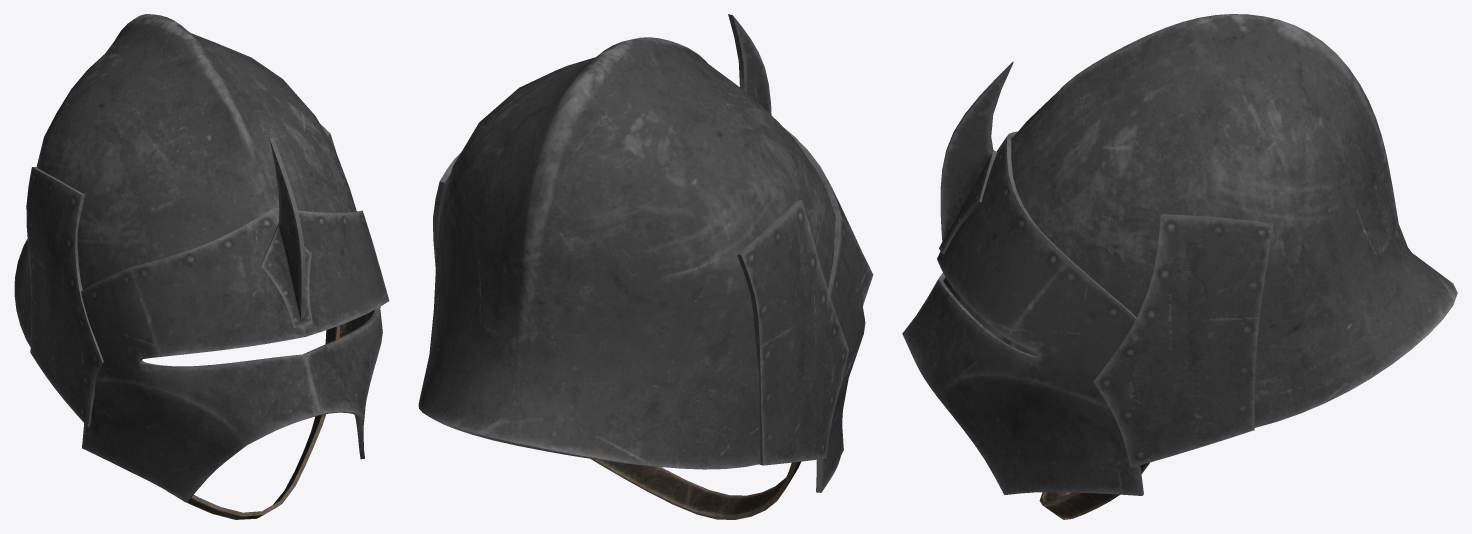
File: sk_uruk_hai_helmet_spear_med_a4.fbx
The picture shows the model from 3 angles, left to right: view 1: azimuth 30°, elevation 25°; view 2: azimuth 150°, elevation 25°; view 3: azimuth 270°, elevation 25°; orthographic projection. The views are drawn at different scales.
Visible parts, largest first — view 1: sk_uruk_hai_helmet_spear_med_a4.1, sk_uruk_hai_helmet_spear_med_a4.0; view 2: sk_uruk_hai_helmet_spear_med_a4.1, sk_uruk_hai_helmet_spear_med_a4.0; view 3: sk_uruk_hai_helmet_spear_med_a4.1, sk_uruk_hai_helmet_spear_med_a4.0.
Part boxes in pixels (x1,y1,x2,y2): sk_uruk_hai_helmet_spear_med_a4.1: [14, 14, 389, 502]; sk_uruk_hai_helmet_spear_med_a4.0: [167, 325, 340, 519]; sk_uruk_hai_helmet_spear_med_a4.1: [418, 14, 873, 492]; sk_uruk_hai_helmet_spear_med_a4.0: [591, 459, 800, 519]; sk_uruk_hai_helmet_spear_med_a4.1: [902, 14, 1457, 495]; sk_uruk_hai_helmet_spear_med_a4.0: [1039, 462, 1149, 519].
Bounding box in the file's own units: 0.2102 × 0.3196 × 0.3151.
2 materials, 2 textured.
